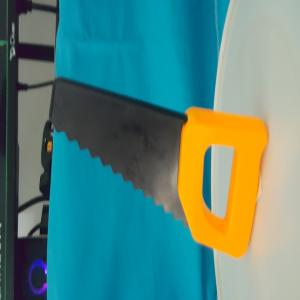serrote: (51, 75, 269, 260)
